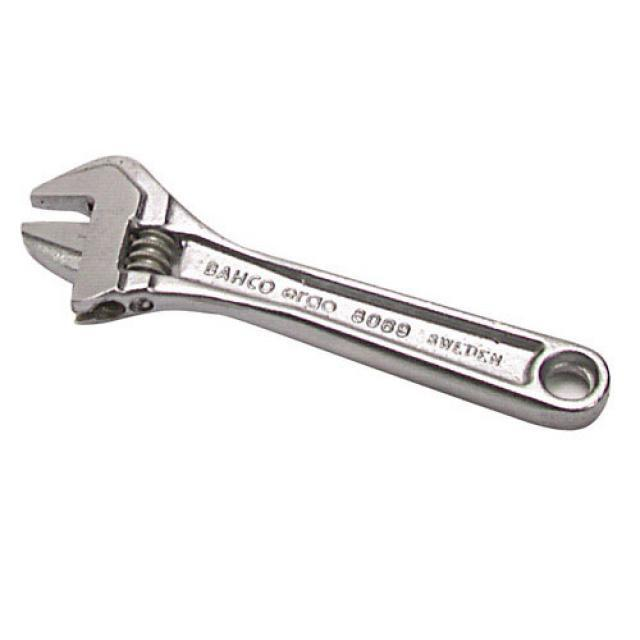wrench: (4, 144, 620, 448)
